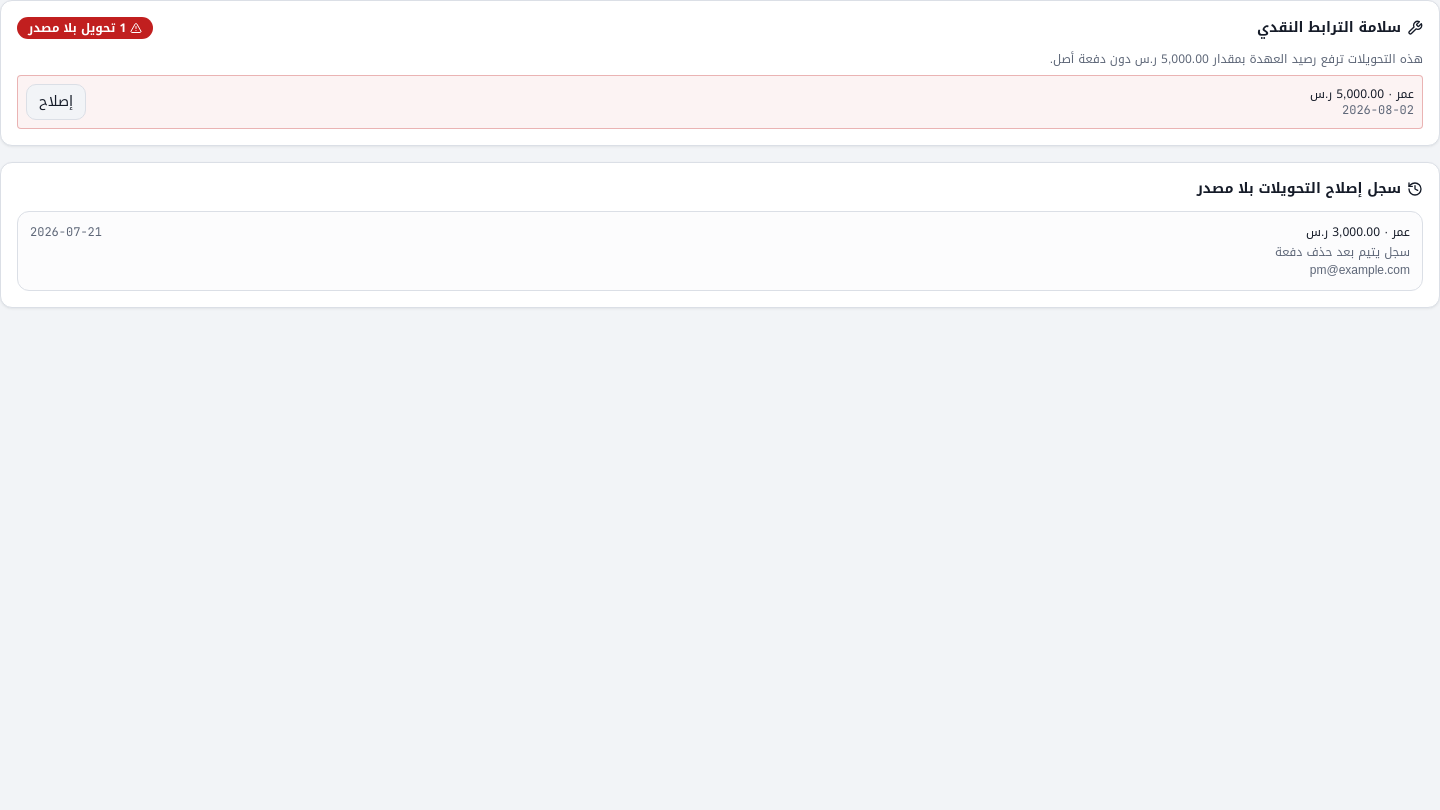
Test case: CashRepairLogSection › opens a logged repair on its summary and the custody figures before and after
The width and height of the screenshot is (1440, 810).
Click the button "عمر · 3,000" at (1356, 232), box [17,211,1423,291]
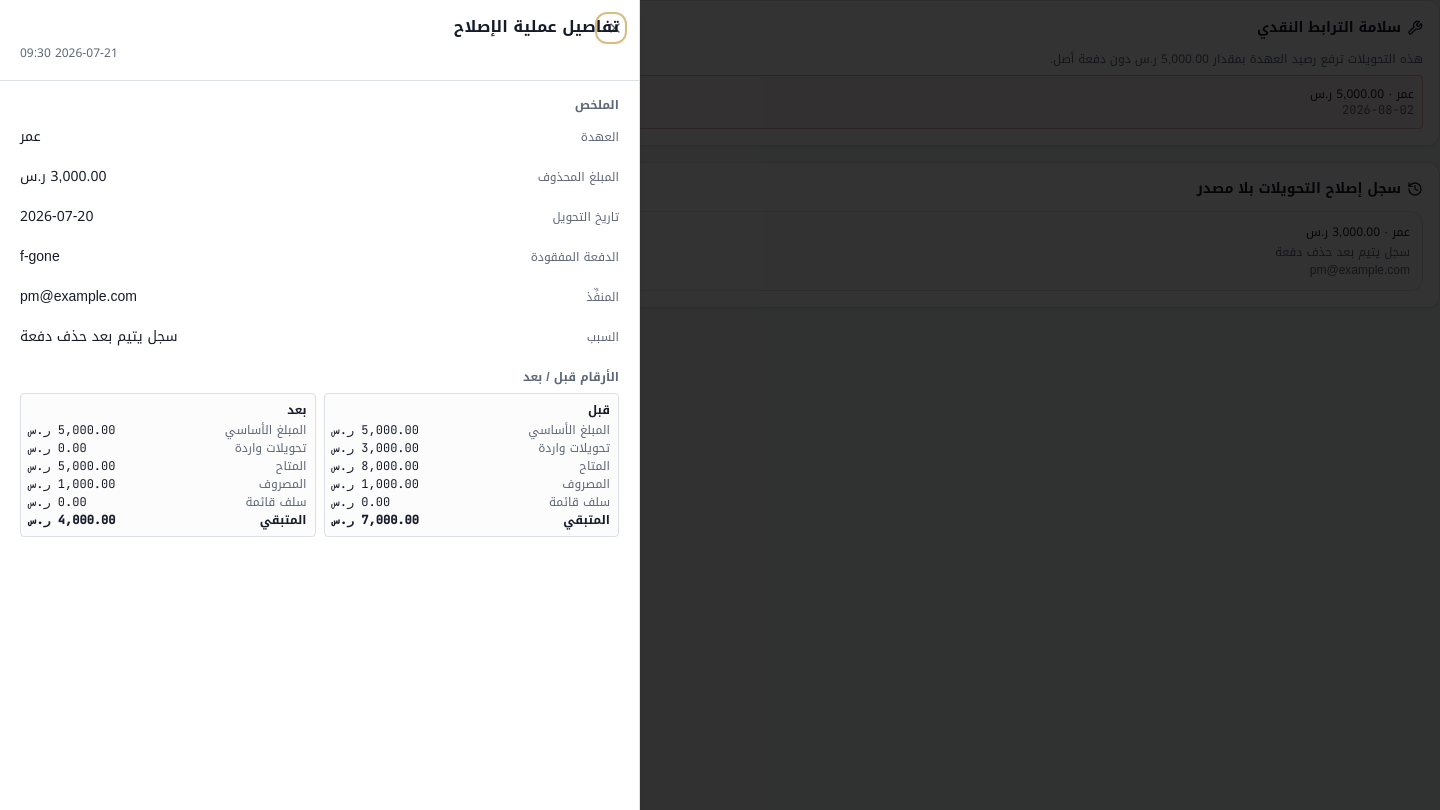
Expected: the dialog shows "تفاصيل عملية الإصلاح", [454,11,619,42]
Expected: the dialog shows "2026-07-21 09:30", [20,42,118,64]
Expected: the dialog shows "f-gone", [20,242,60,270]
